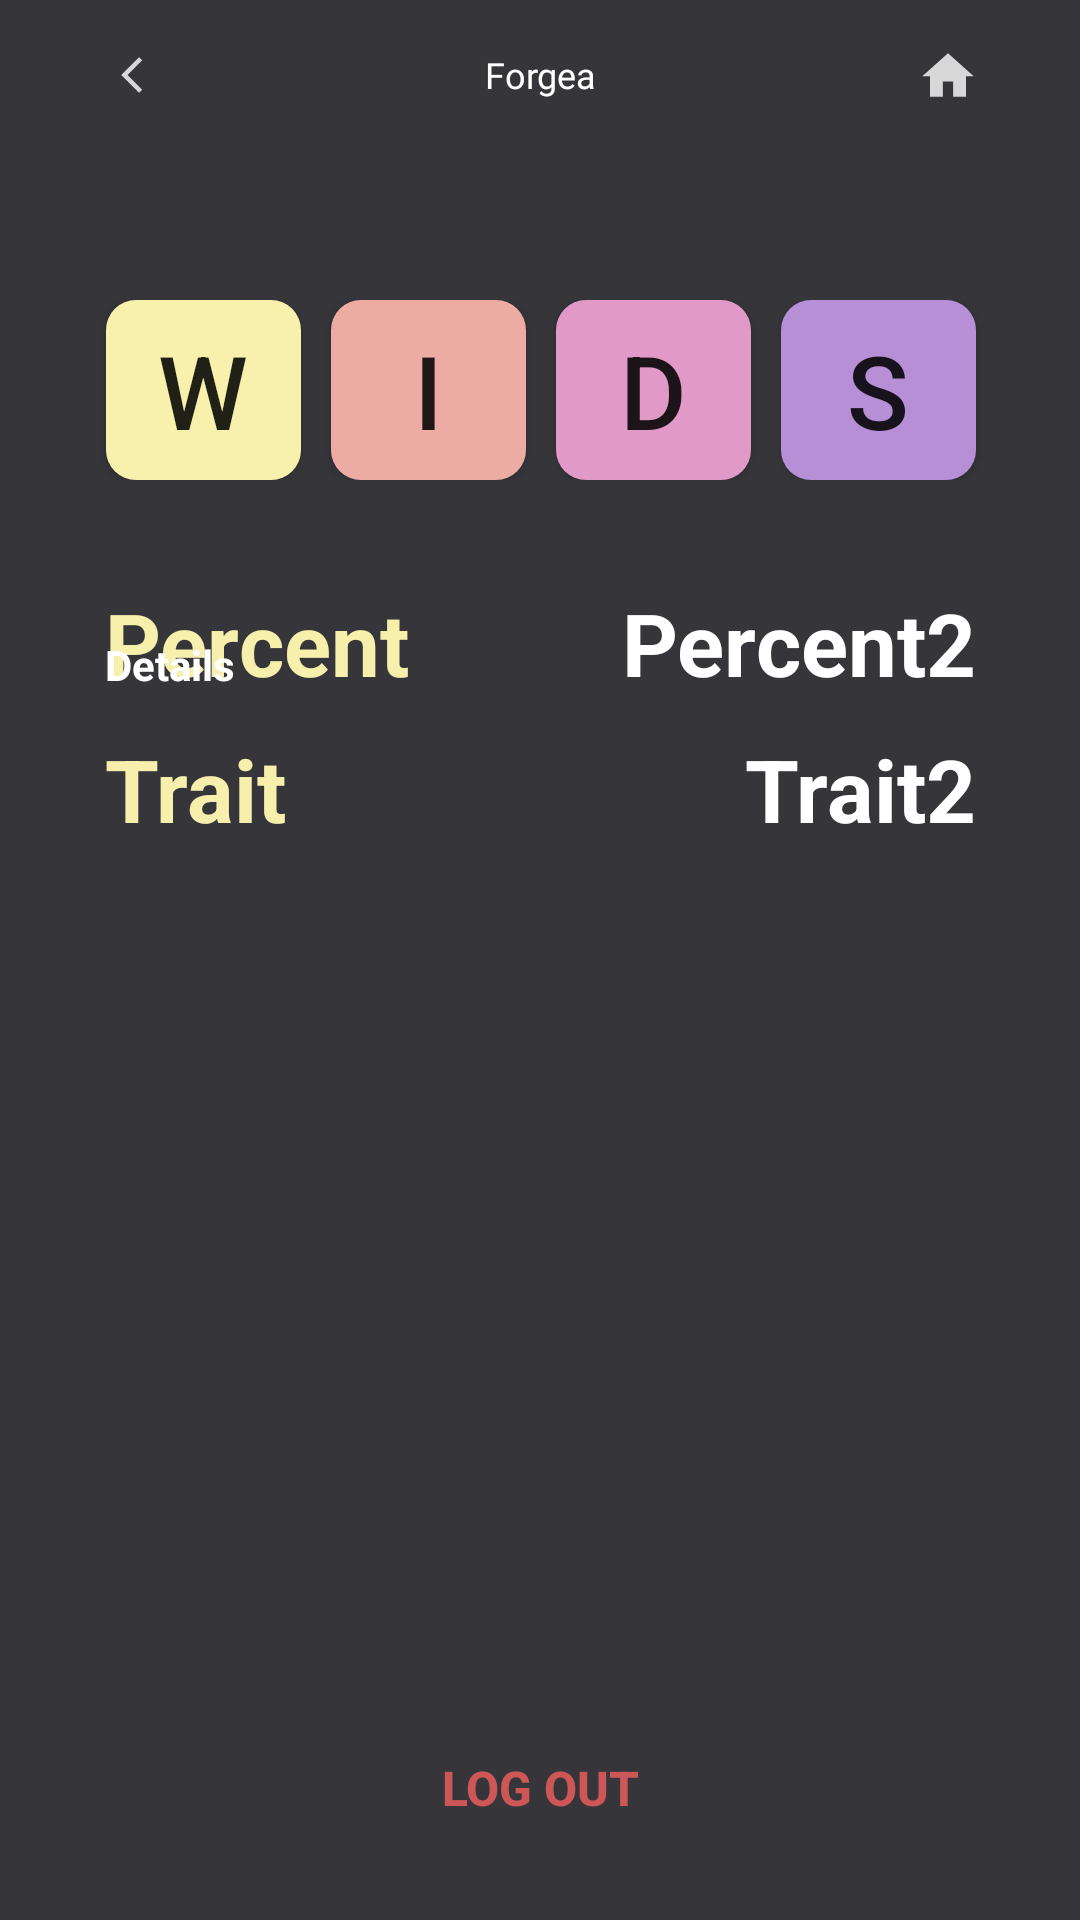

Named icons in this screenshot (1080px x 1920px) and their bounding boxes, box(x1, y1, x2, y2):
back arrow: box(121, 57, 142, 93)
home: box(923, 53, 973, 97)
